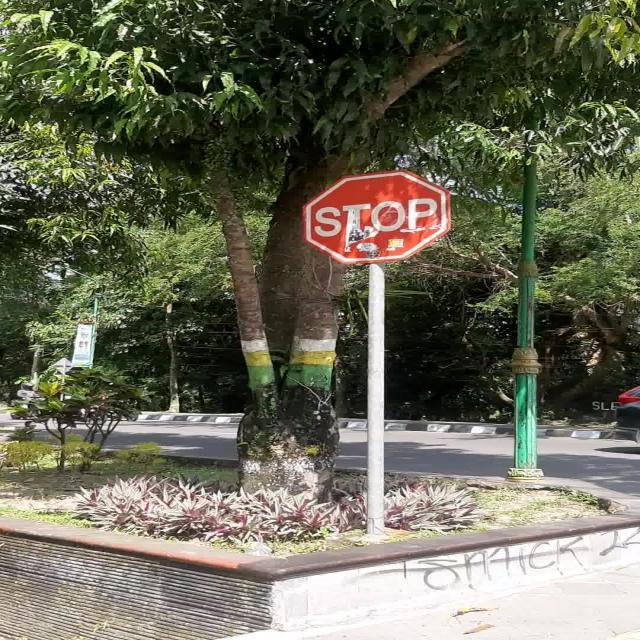Berhenti: (304, 170, 448, 262)
